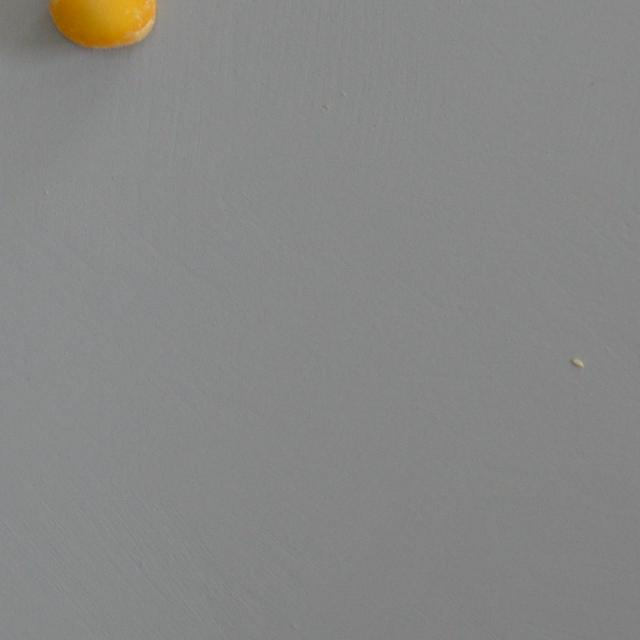dañado: (42, 0, 166, 52)
